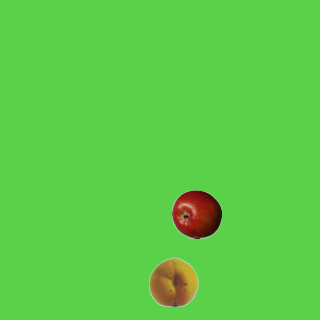Apple Braeburn: (171, 189, 221, 239)
Peach 2: (148, 256, 198, 306)
